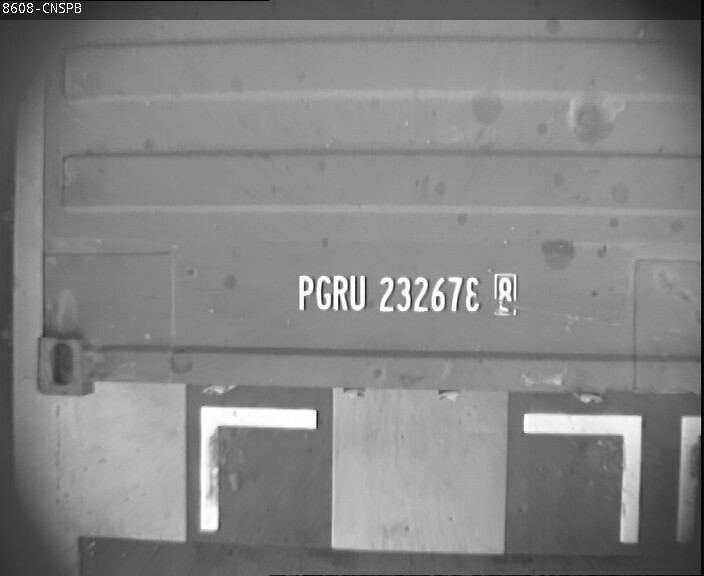groundmarker_1: (523, 411, 704, 543)
